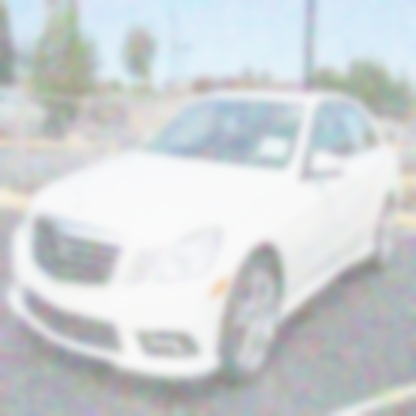Vehicle: (6, 86, 399, 384)
